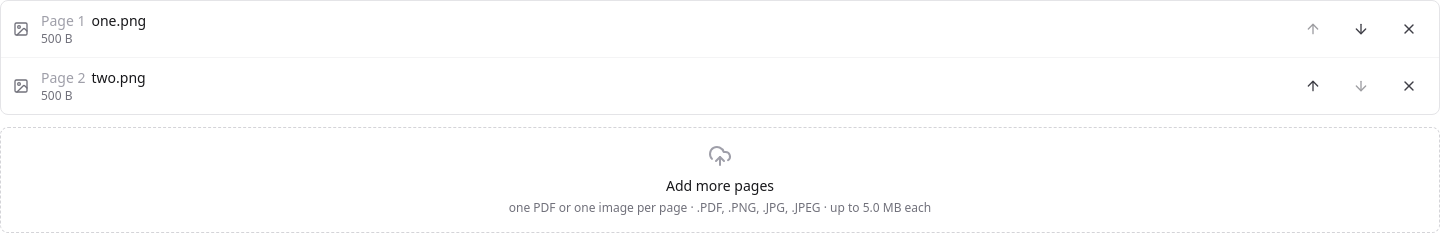
Test: script picker › accepts page images in order and lets the student reorder them
Earlier steps of the test are not shown.
Expected: the text "one.png" is shown, [92,11,146,30]
Step 1. Click the button named "Move two.png up" → (1313, 86), box [1295,68,1331,104]
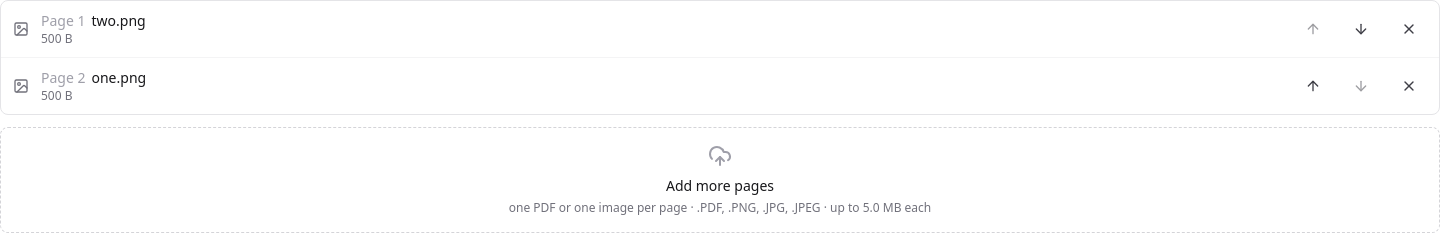
Result: the elements ".png" read "Page 1two.png", "Page 2one.png", in this order at [41,11,146,30]; [41,68,146,87]
